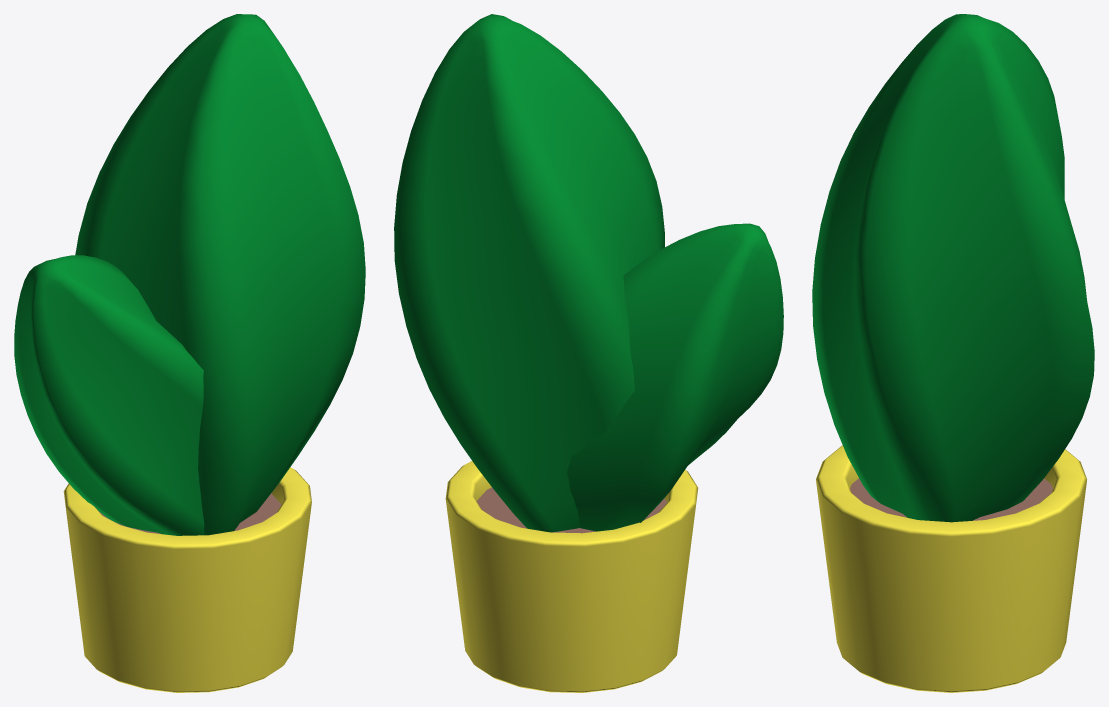
Rendered from Town_15_Plant_2.glb.
The picture shows the model from 3 angles, left to right: view 1: azimuth 30°, elevation 25°; view 2: azimuth 150°, elevation 25°; view 3: azimuth 270°, elevation 25°; orthographic projection. The views are drawn at different scales.
Parts seen in each view (by area): view 1: Town_15_Plant_2; view 2: Town_15_Plant_2; view 3: Town_15_Plant_2.
Boxes of the visible parts, x1,y1,x2,y2 form: Town_15_Plant_2: [14, 14, 365, 692]; Town_15_Plant_2: [394, 14, 783, 692]; Town_15_Plant_2: [812, 14, 1094, 692].
Bounding box in the file's own units: 0.9891 × 1.81 × 0.6955.
1 material, 1 textured.
